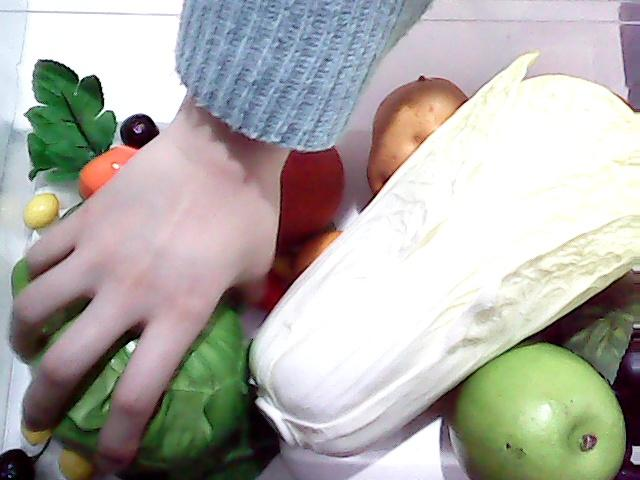apple: (442, 338, 630, 480)
cabbage: (29, 246, 243, 466)
carrot: (26, 57, 140, 203)
mango: (288, 222, 352, 280)
napa cabbage: (238, 64, 640, 448)
peach: (262, 139, 346, 242)
pepper: (5, 228, 186, 480)
potato: (368, 74, 470, 198)
